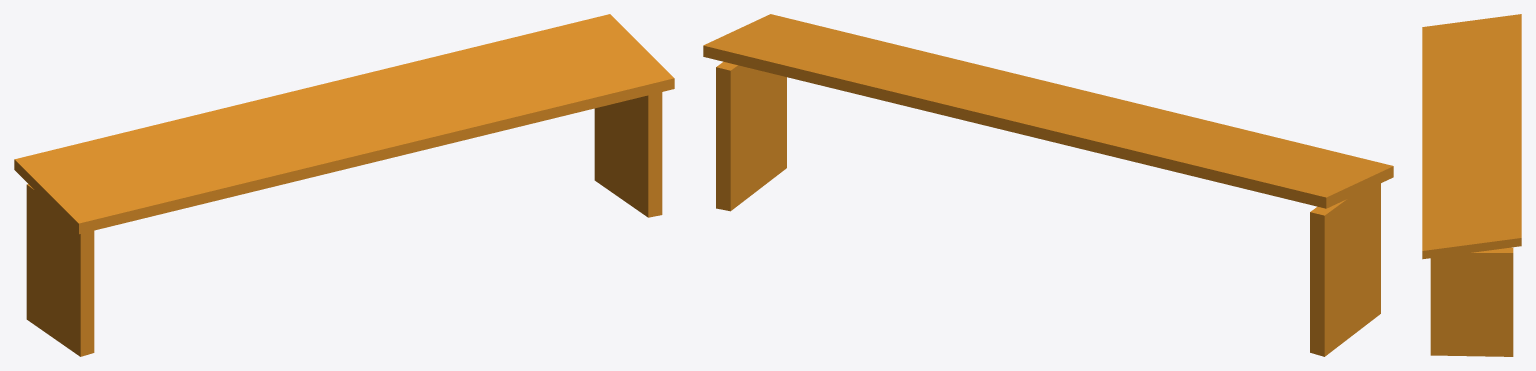
File: protoCoupe_spoiler_hoop.glb
3 views of the same model, side by side, from view 1: azimuth 30°, elevation 25°; view 2: azimuth 150°, elevation 25°; view 3: azimuth 270°, elevation 25° (orthographic). The views are drawn at different scales.
Parts seen in each view (by area): view 1: spoiler_hoop; view 2: spoiler_hoop; view 3: spoiler_hoop.
Part boxes in pixels (x1,y1,x2,y2): spoiler_hoop: [14, 14, 674, 356]; spoiler_hoop: [703, 14, 1393, 356]; spoiler_hoop: [1422, 14, 1521, 356].
Size of the model in its own units: 1.28 by 0.3244 by 0.24.
